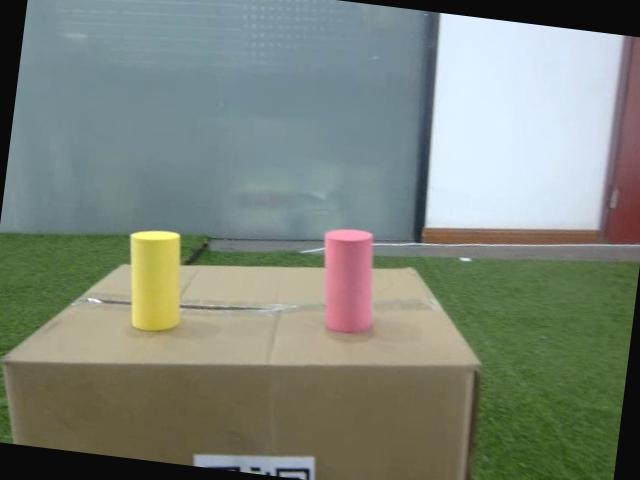red_cylinder: (312, 226, 386, 334)
yellow_cylinder: (117, 222, 191, 336)
